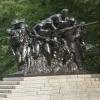Statue: (4, 13, 90, 79)
